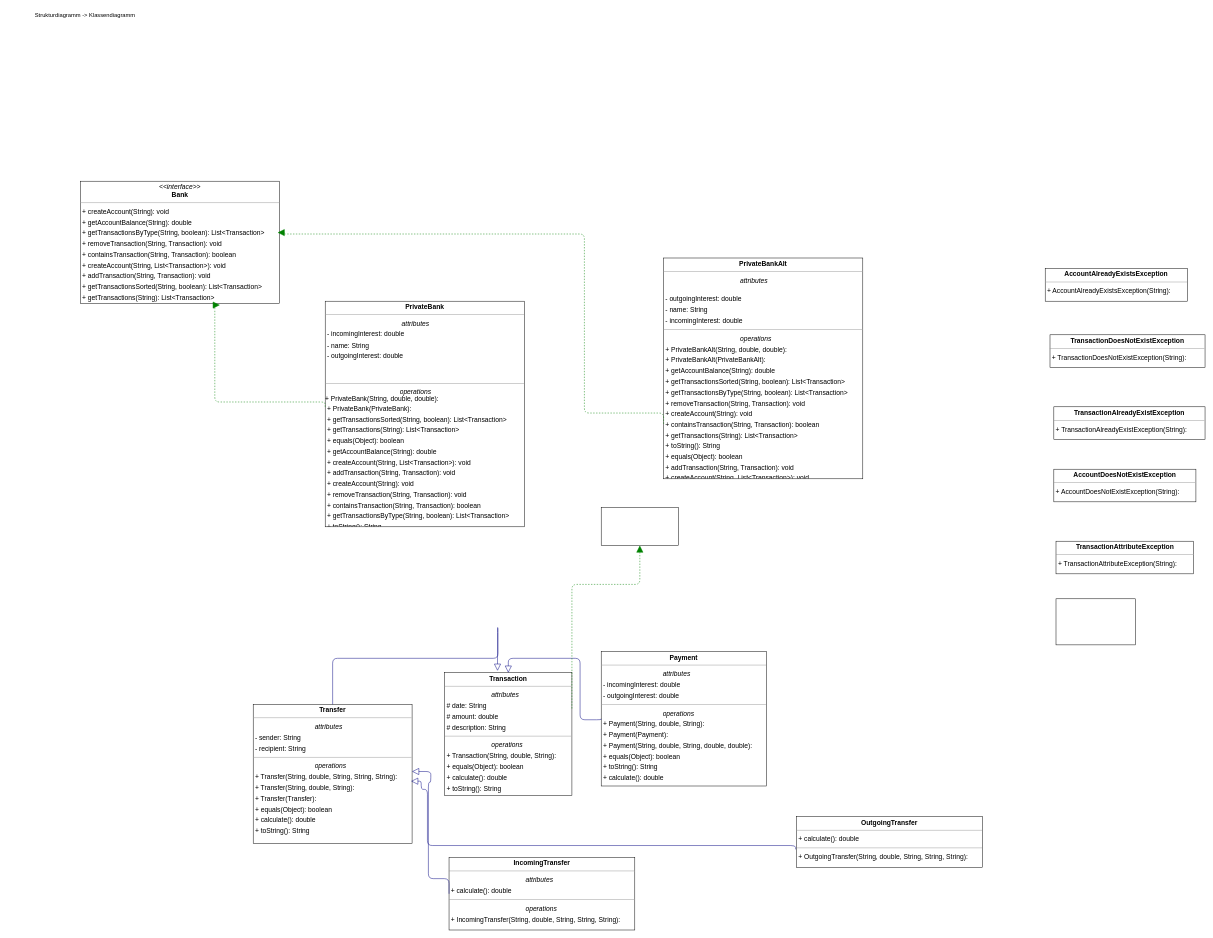
Image size: 1213x938. Some labels were removed from this diagram. Each missing label, with the centre of its shape:
"<<interface>> CalculateBill + calculate(): double" goes at point (639, 526).
"Main + Main(): + main(String[]): void" goes at point (1096, 621).
